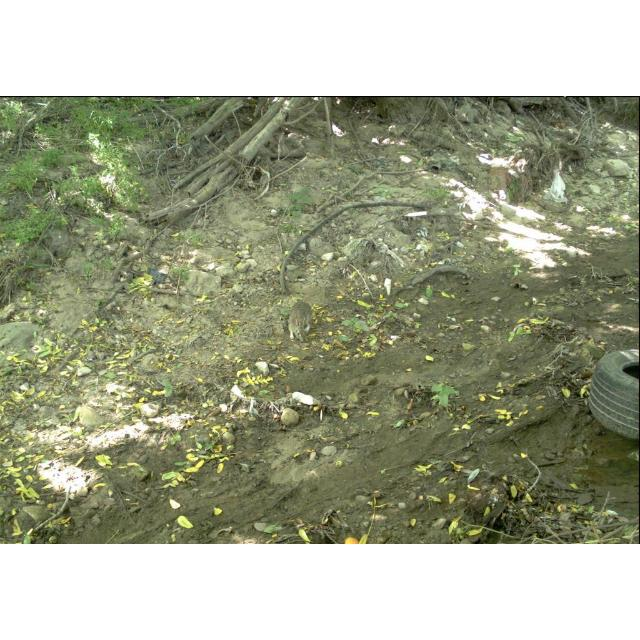animals: (282, 300, 320, 346)
